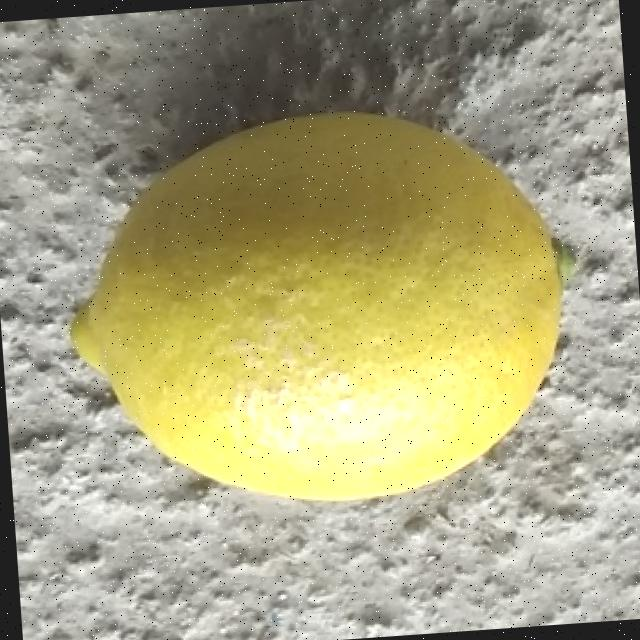Ripe: (51, 92, 596, 527)
